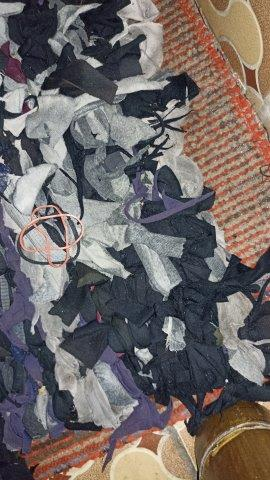karet: (17, 204, 85, 269)
